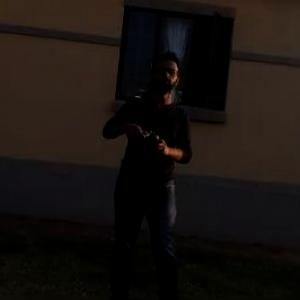follow: (94, 43, 198, 299)
